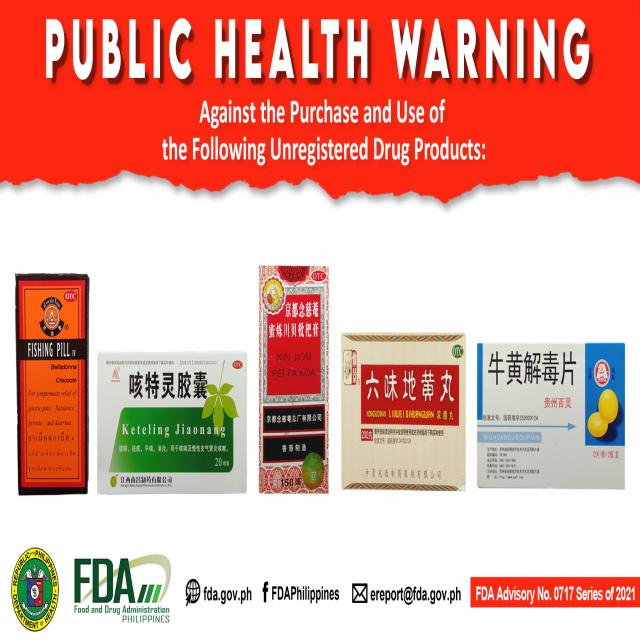counterfeit: (474, 336, 627, 494), (95, 352, 248, 492), (342, 329, 466, 492), (11, 268, 86, 499), (257, 266, 331, 498)
